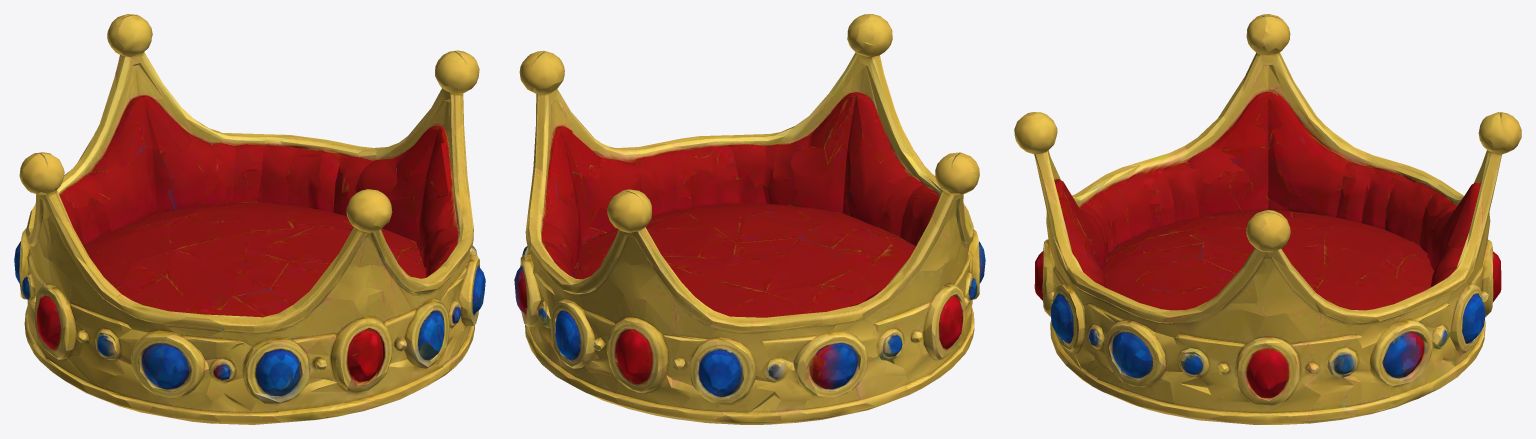
Rendered from gold_crown.glb.
3 renders of one model, left to right at view 1: azimuth 30°, elevation 25°; view 2: azimuth 150°, elevation 25°; view 3: azimuth 270°, elevation 25°, orthographic. The views are drawn at different scales.
Size of the model in its own units: 1.9 by 0.9214 by 1.9.
Materials: 1 (1 with a texture image).
